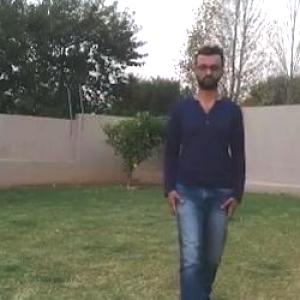follow: (167, 54, 236, 299)
